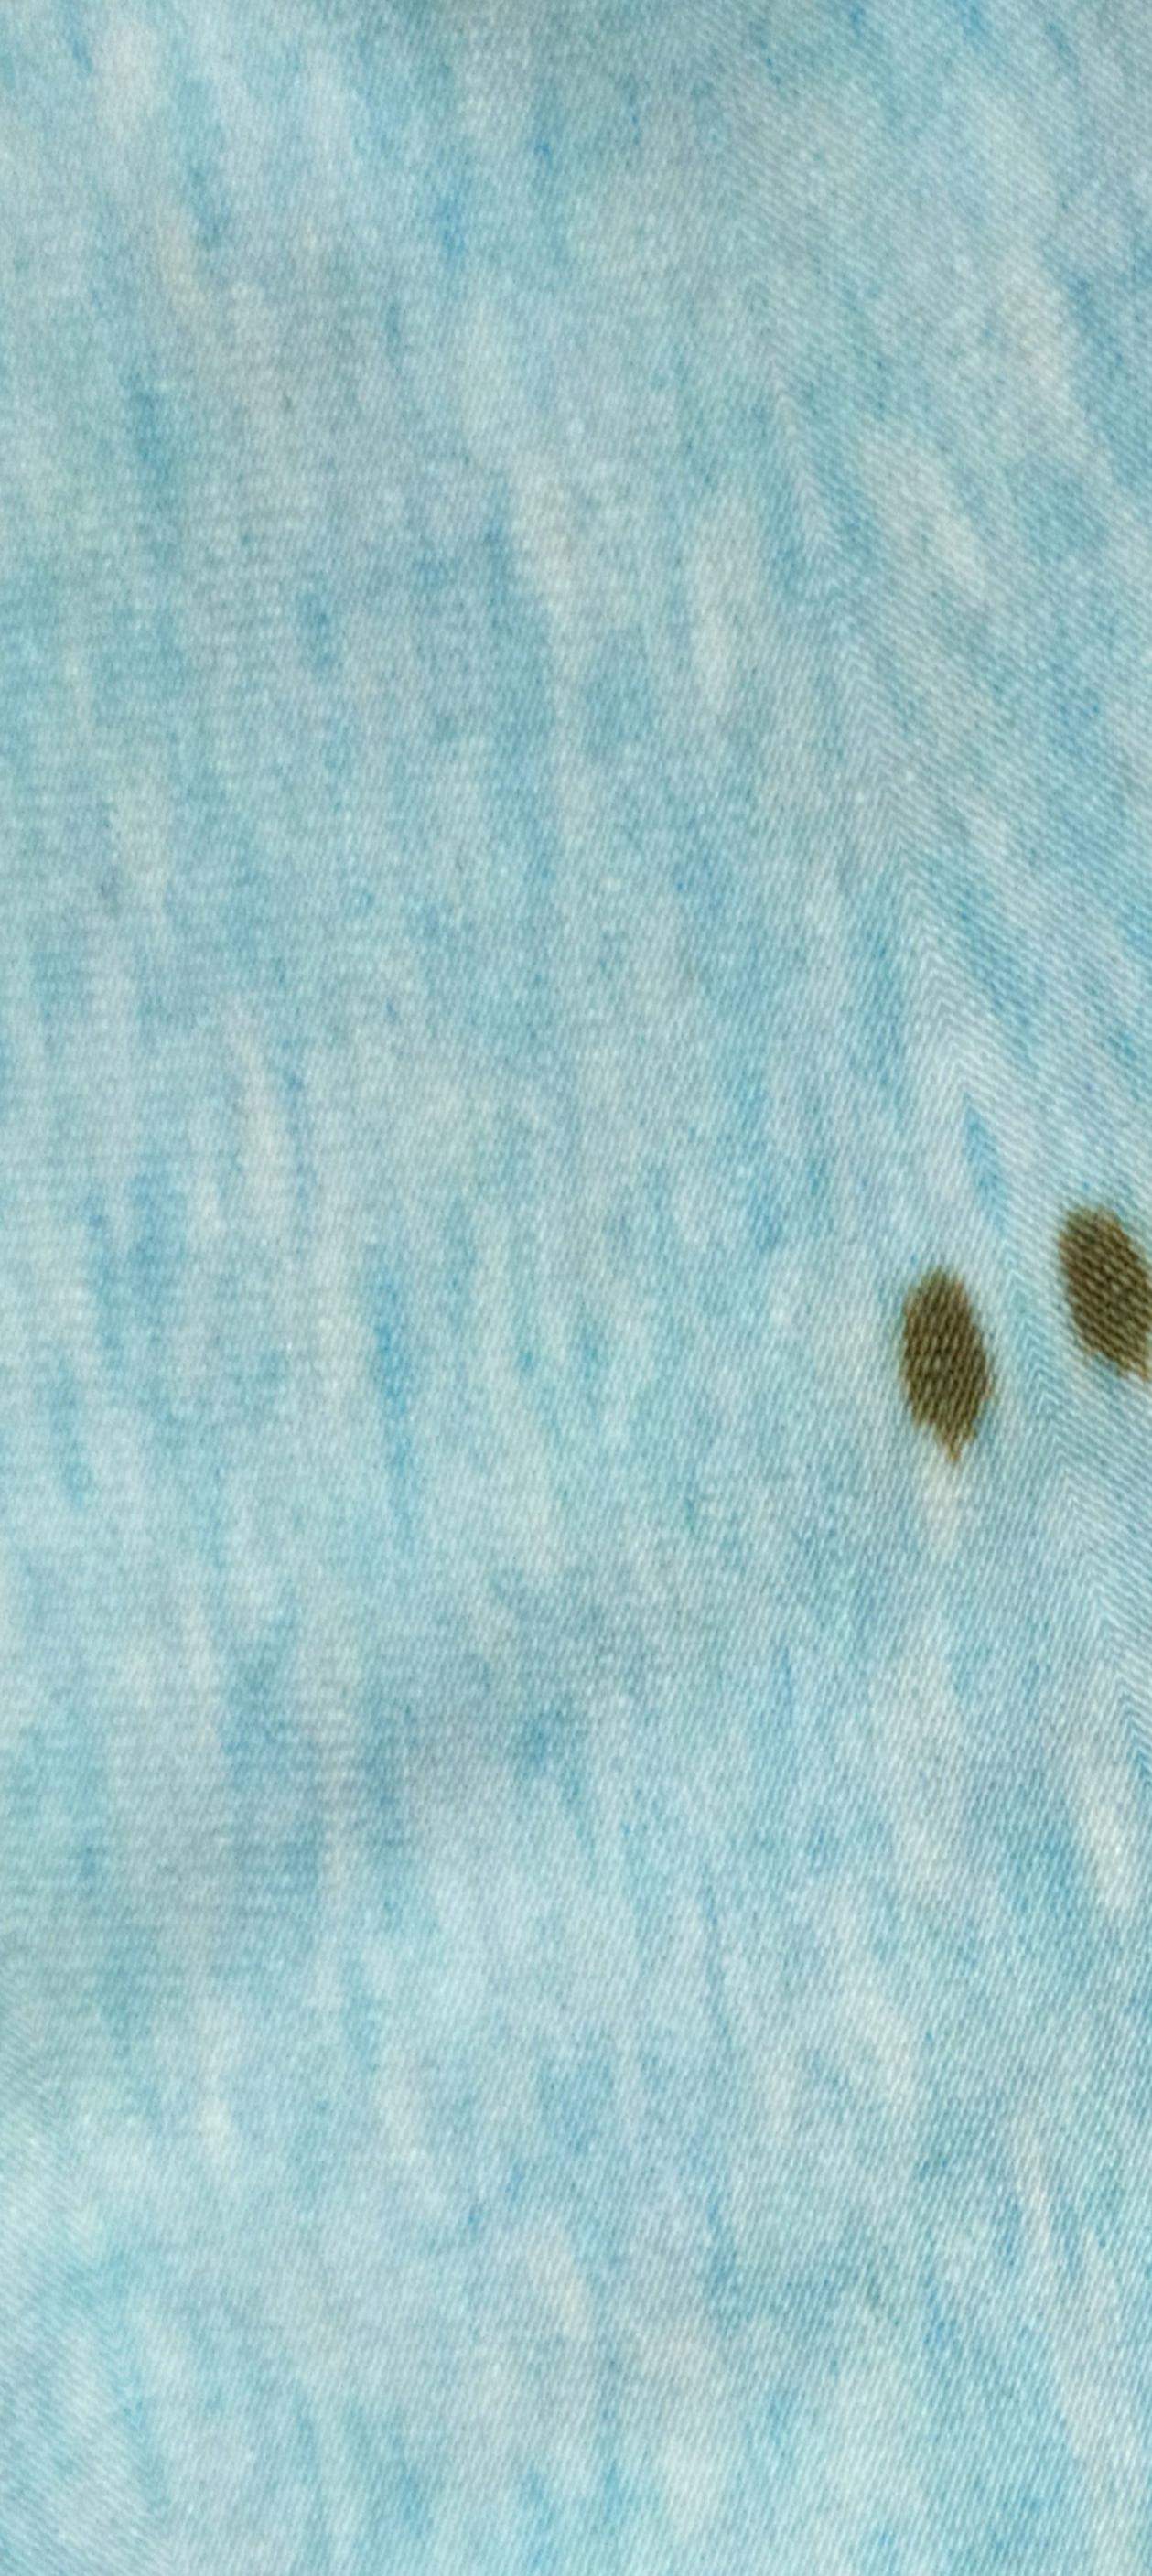stain: (892, 1253, 1001, 1479), (1050, 1165, 1152, 1400)
